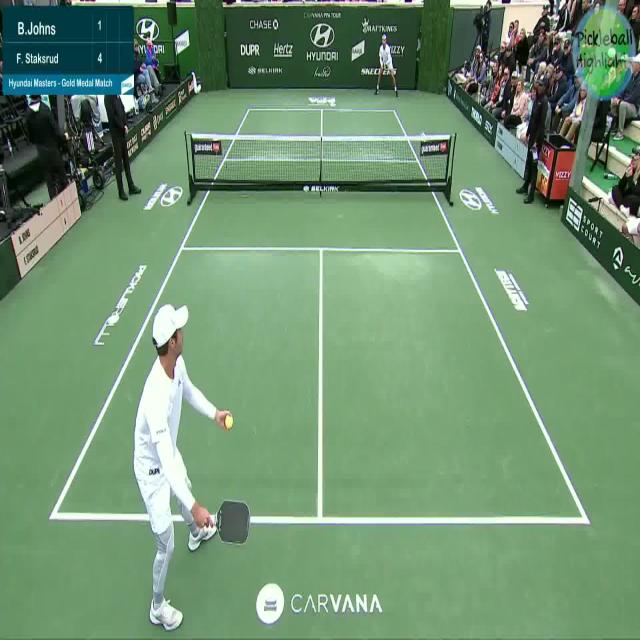ball: (224, 412, 233, 431)
